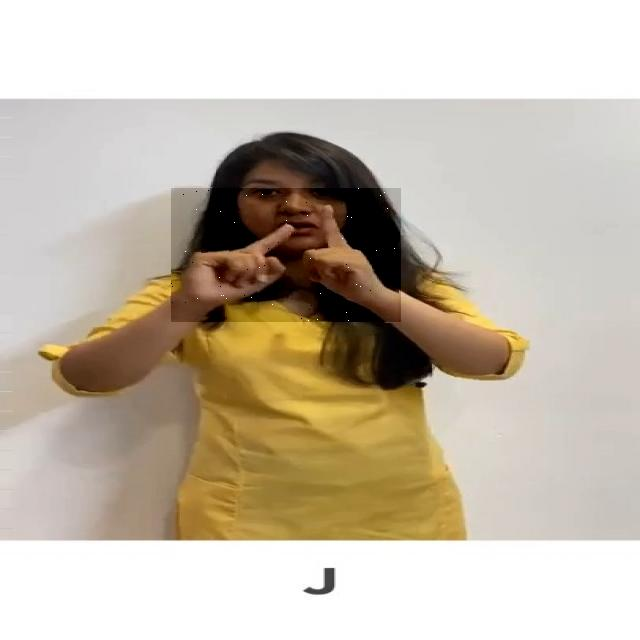J: (171, 188, 401, 322)
